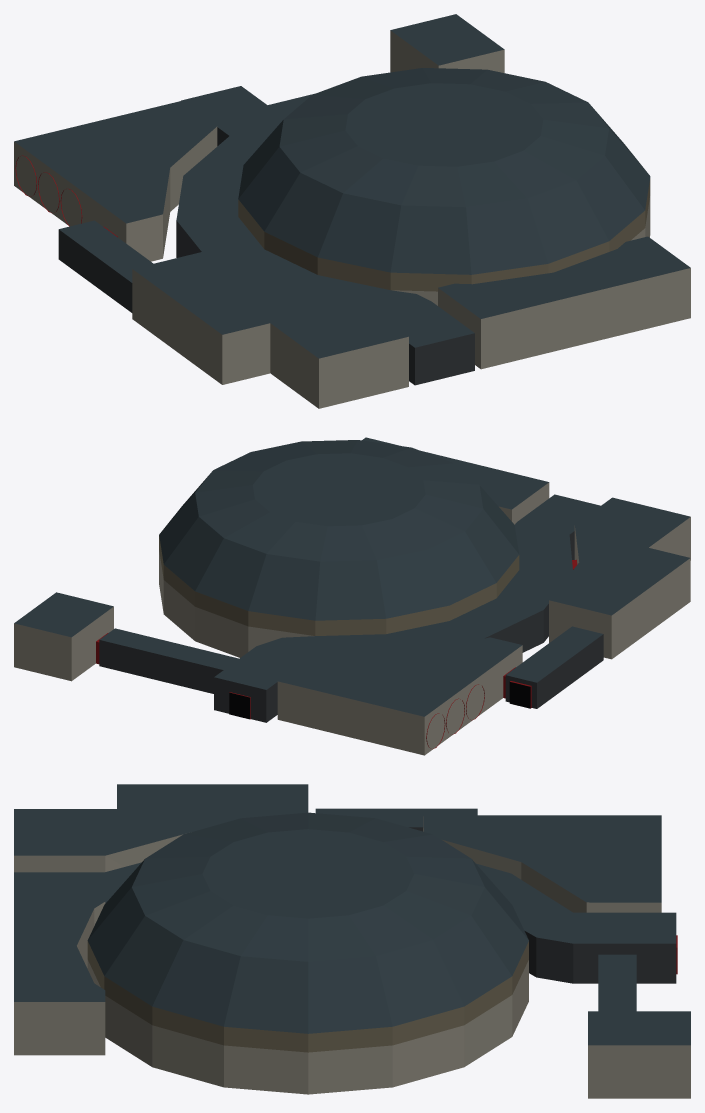
File: Ship_Test.fbx
3 renders of one model, top to bottom at view 1: azimuth 30°, elevation 25°; view 2: azimuth 150°, elevation 25°; view 3: azimuth 270°, elevation 25°, orthographic. The views are drawn at different scales.
Parts seen in each view (by area): view 1: Temp_ShipInterior; view 2: Temp_ShipInterior; view 3: Temp_ShipInterior.
Boxes of the visible parts, box(x1,y1,x2,y2) form: Temp_ShipInterior: box(14, 14, 690, 408); Temp_ShipInterior: box(14, 437, 690, 755); Temp_ShipInterior: box(14, 784, 690, 1098).
Size of the model in its own units: 42 by 11 by 46.
